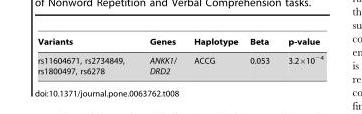table: (36, 37, 322, 75)
table column: (36, 37, 136, 75), (184, 37, 243, 75), (136, 37, 184, 75), (278, 37, 322, 75), (243, 37, 278, 75)
table column header: (36, 37, 322, 50)
table row: (36, 50, 322, 75), (36, 37, 322, 50)
